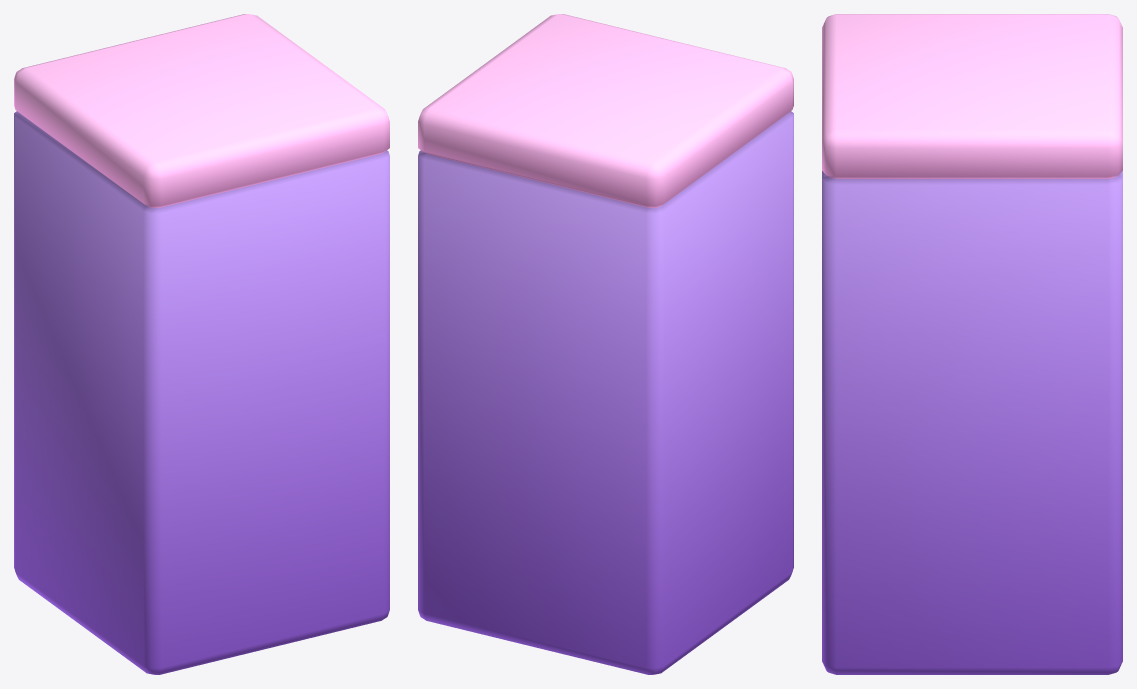
File: Platform_14.glb
3 views of the same model, side by side, from view 1: azimuth 30°, elevation 25°; view 2: azimuth 150°, elevation 25°; view 3: azimuth 270°, elevation 25° (orthographic). The views are drawn at different scales.
Visible parts, largest first — view 1: Platform_14; view 2: Platform_14; view 3: Platform_14.
Boxes of the visible parts, x1,y1,x2,y2 form: Platform_14: (14,14,389,674); Platform_14: (418,14,793,674); Platform_14: (822,14,1122,674).
Bounding box in the file's own units: 6 × 12 × 6.
Materials: 1 (1 with a texture image).
